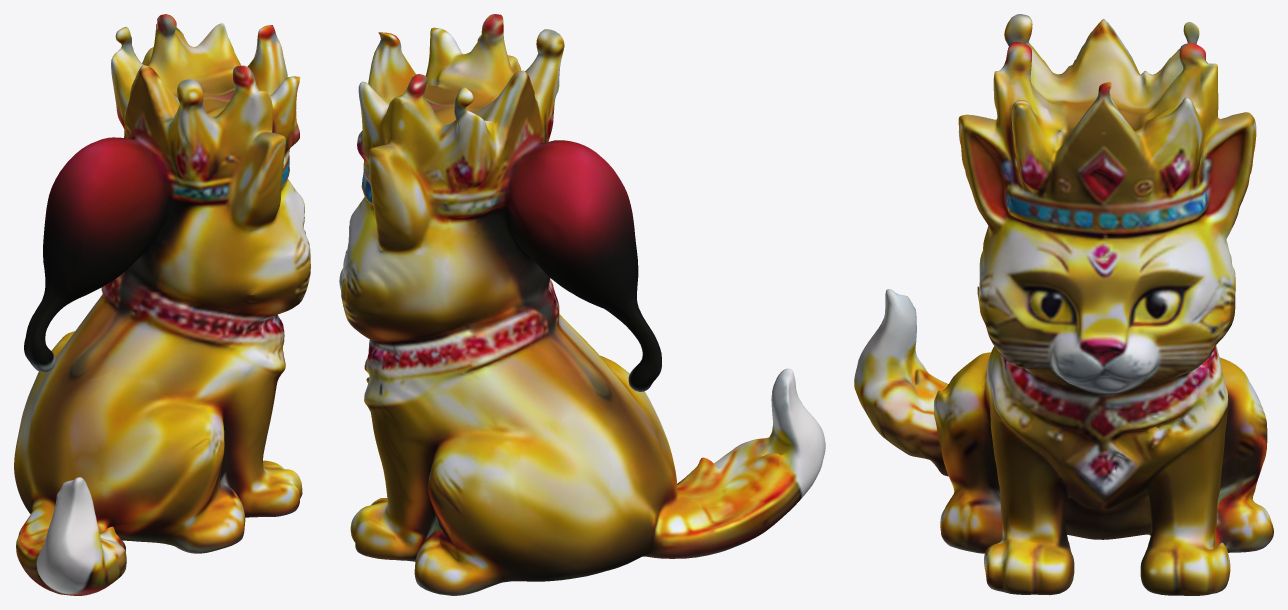
3 renders of one model, left to right at view 1: azimuth 30°, elevation 25°; view 2: azimuth 150°, elevation 25°; view 3: azimuth 270°, elevation 25°, orthographic. The views are drawn at different scales.
Parts seen in each view (by area): view 1: tripo_node_7419cb21-cc24-4b0e-a7fd-71f6c71e134f; view 2: tripo_node_7419cb21-cc24-4b0e-a7fd-71f6c71e134f; view 3: tripo_node_7419cb21-cc24-4b0e-a7fd-71f6c71e134f.
Part boxes in pixels (x1=…): tripo_node_7419cb21-cc24-4b0e-a7fd-71f6c71e134f: x1=14, y1=14, x2=310, y2=595; tripo_node_7419cb21-cc24-4b0e-a7fd-71f6c71e134f: x1=339, y1=14, x2=825, y2=595; tripo_node_7419cb21-cc24-4b0e-a7fd-71f6c71e134f: x1=854, y1=14, x2=1273, y2=595.
Bounding box in the file's own units: 0.5758 × 0.7195 × 0.517.
Materials: 1 (1 with a texture image).
